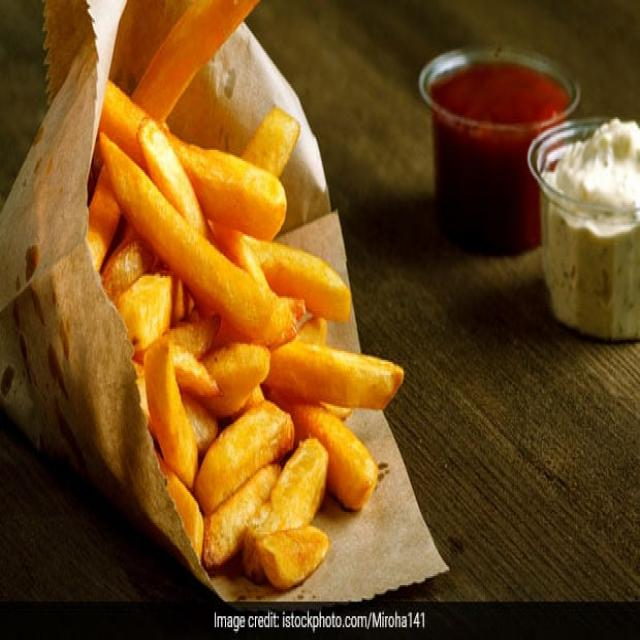Fries: (63, 8, 417, 597)
